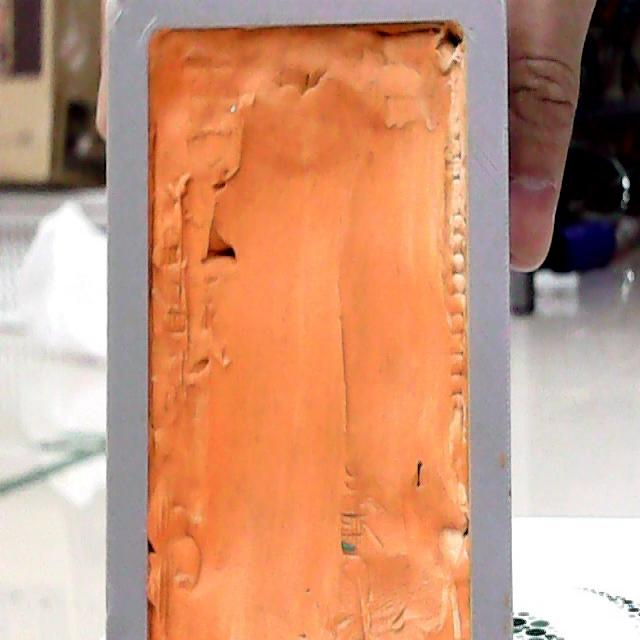block: (99, 0, 512, 630)
